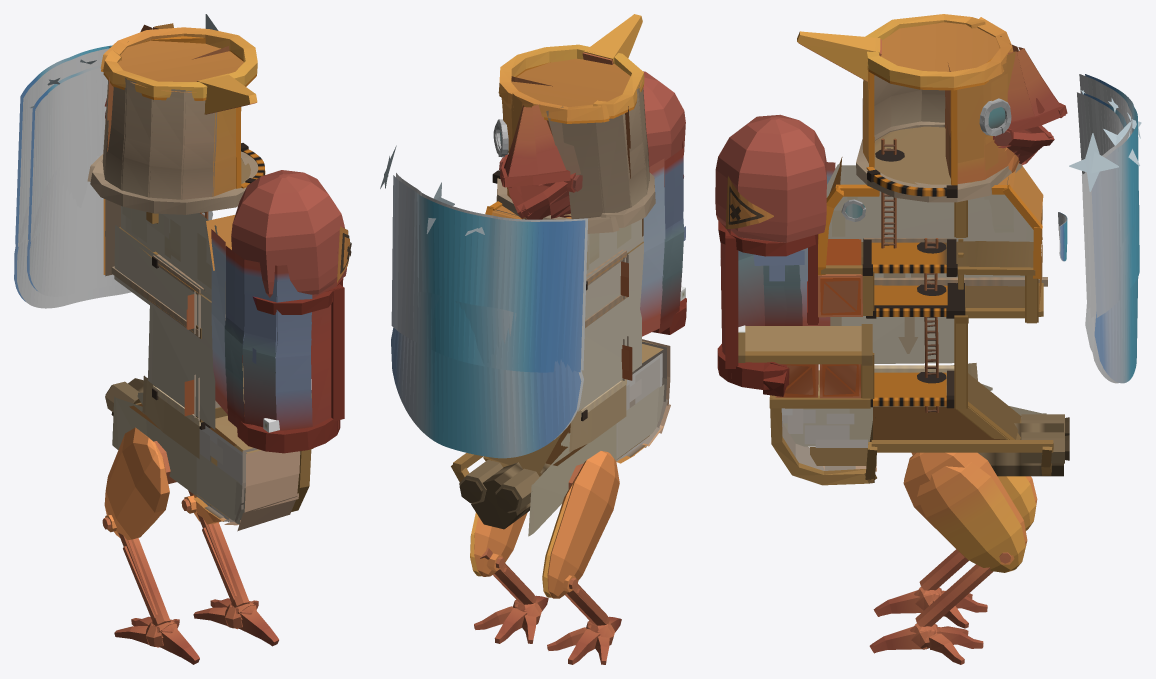
Rendered from Fx_shieldAppear.fbx.
3 views of the same model, side by side, from view 1: azimuth 30°, elevation 25°; view 2: azimuth 150°, elevation 25°; view 3: azimuth 270°, elevation 25° (orthographic). The views are drawn at different scales.
Visible parts, largest first — view 1: Robohead, Shield; view 2: Robohead, Shield; view 3: Robohead, Shield.
Part boxes in pixels (x1,y1,x2,y2): Robohead: [87, 23, 351, 664]; Shield: [14, 14, 218, 308]; Robohead: [451, 14, 686, 664]; Shield: [380, 145, 588, 458]; Robohead: [715, 14, 1069, 664]; Shield: [1058, 74, 1141, 383].
Size of the model in its own units: 15.25 by 41.23 by 26.91.
